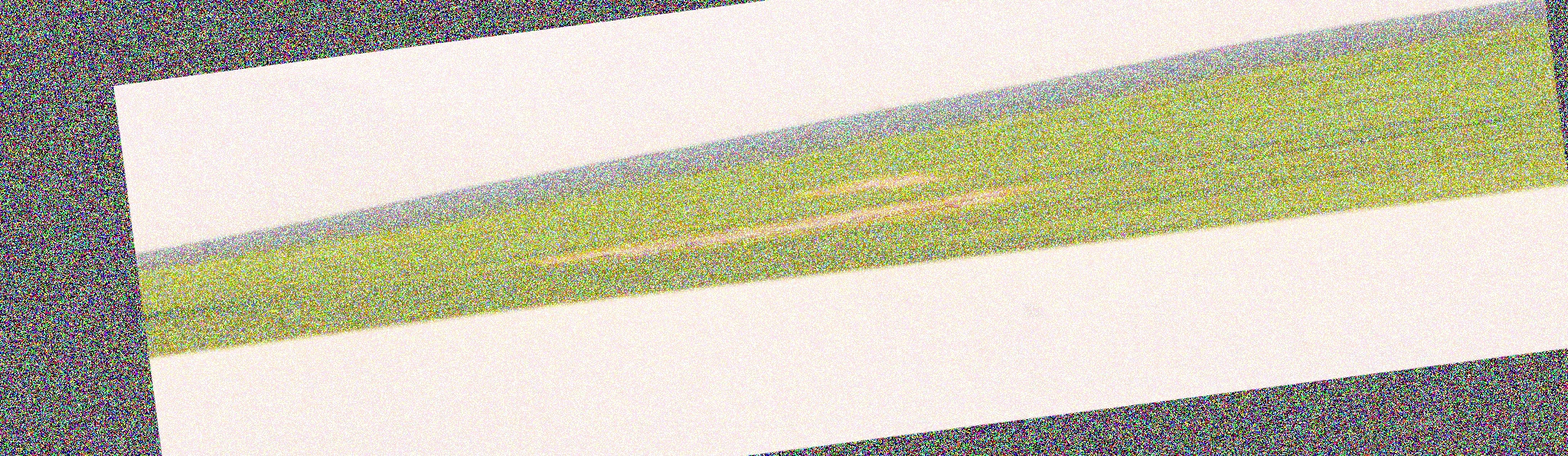Leaf_Blast: (478, 155, 1082, 252)
